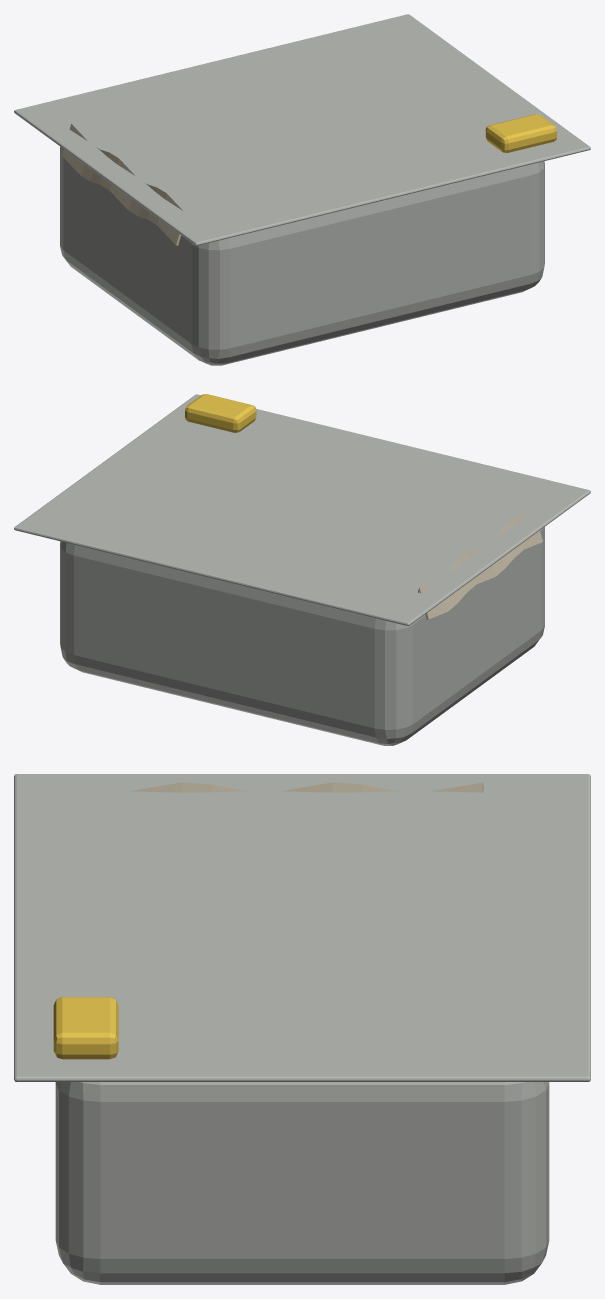
The model's file is ChauInox.glb.
3 renders of one model, top to bottom at view 1: azimuth 30°, elevation 25°; view 2: azimuth 150°, elevation 25°; view 3: azimuth 270°, elevation 25°, orthographic. The views are drawn at different scales.
Visible parts, largest first — view 1: geometry_0; view 2: geometry_0; view 3: geometry_0.
Part boxes in pixels (x1,y1,x2,y2): geometry_0: [14, 14, 590, 365]; geometry_0: [14, 394, 590, 745]; geometry_0: [14, 774, 590, 1284].
Size of the model in its own units: 0.5 by 0.204 by 0.4.
